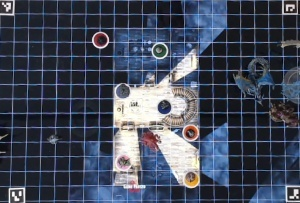blue: (154, 97, 173, 114)
green: (151, 40, 170, 57)
orange: (179, 121, 200, 141)
pink: (114, 152, 133, 174)
red: (90, 30, 109, 49)
violet: (113, 81, 131, 100)
yellow: (181, 170, 197, 189)
